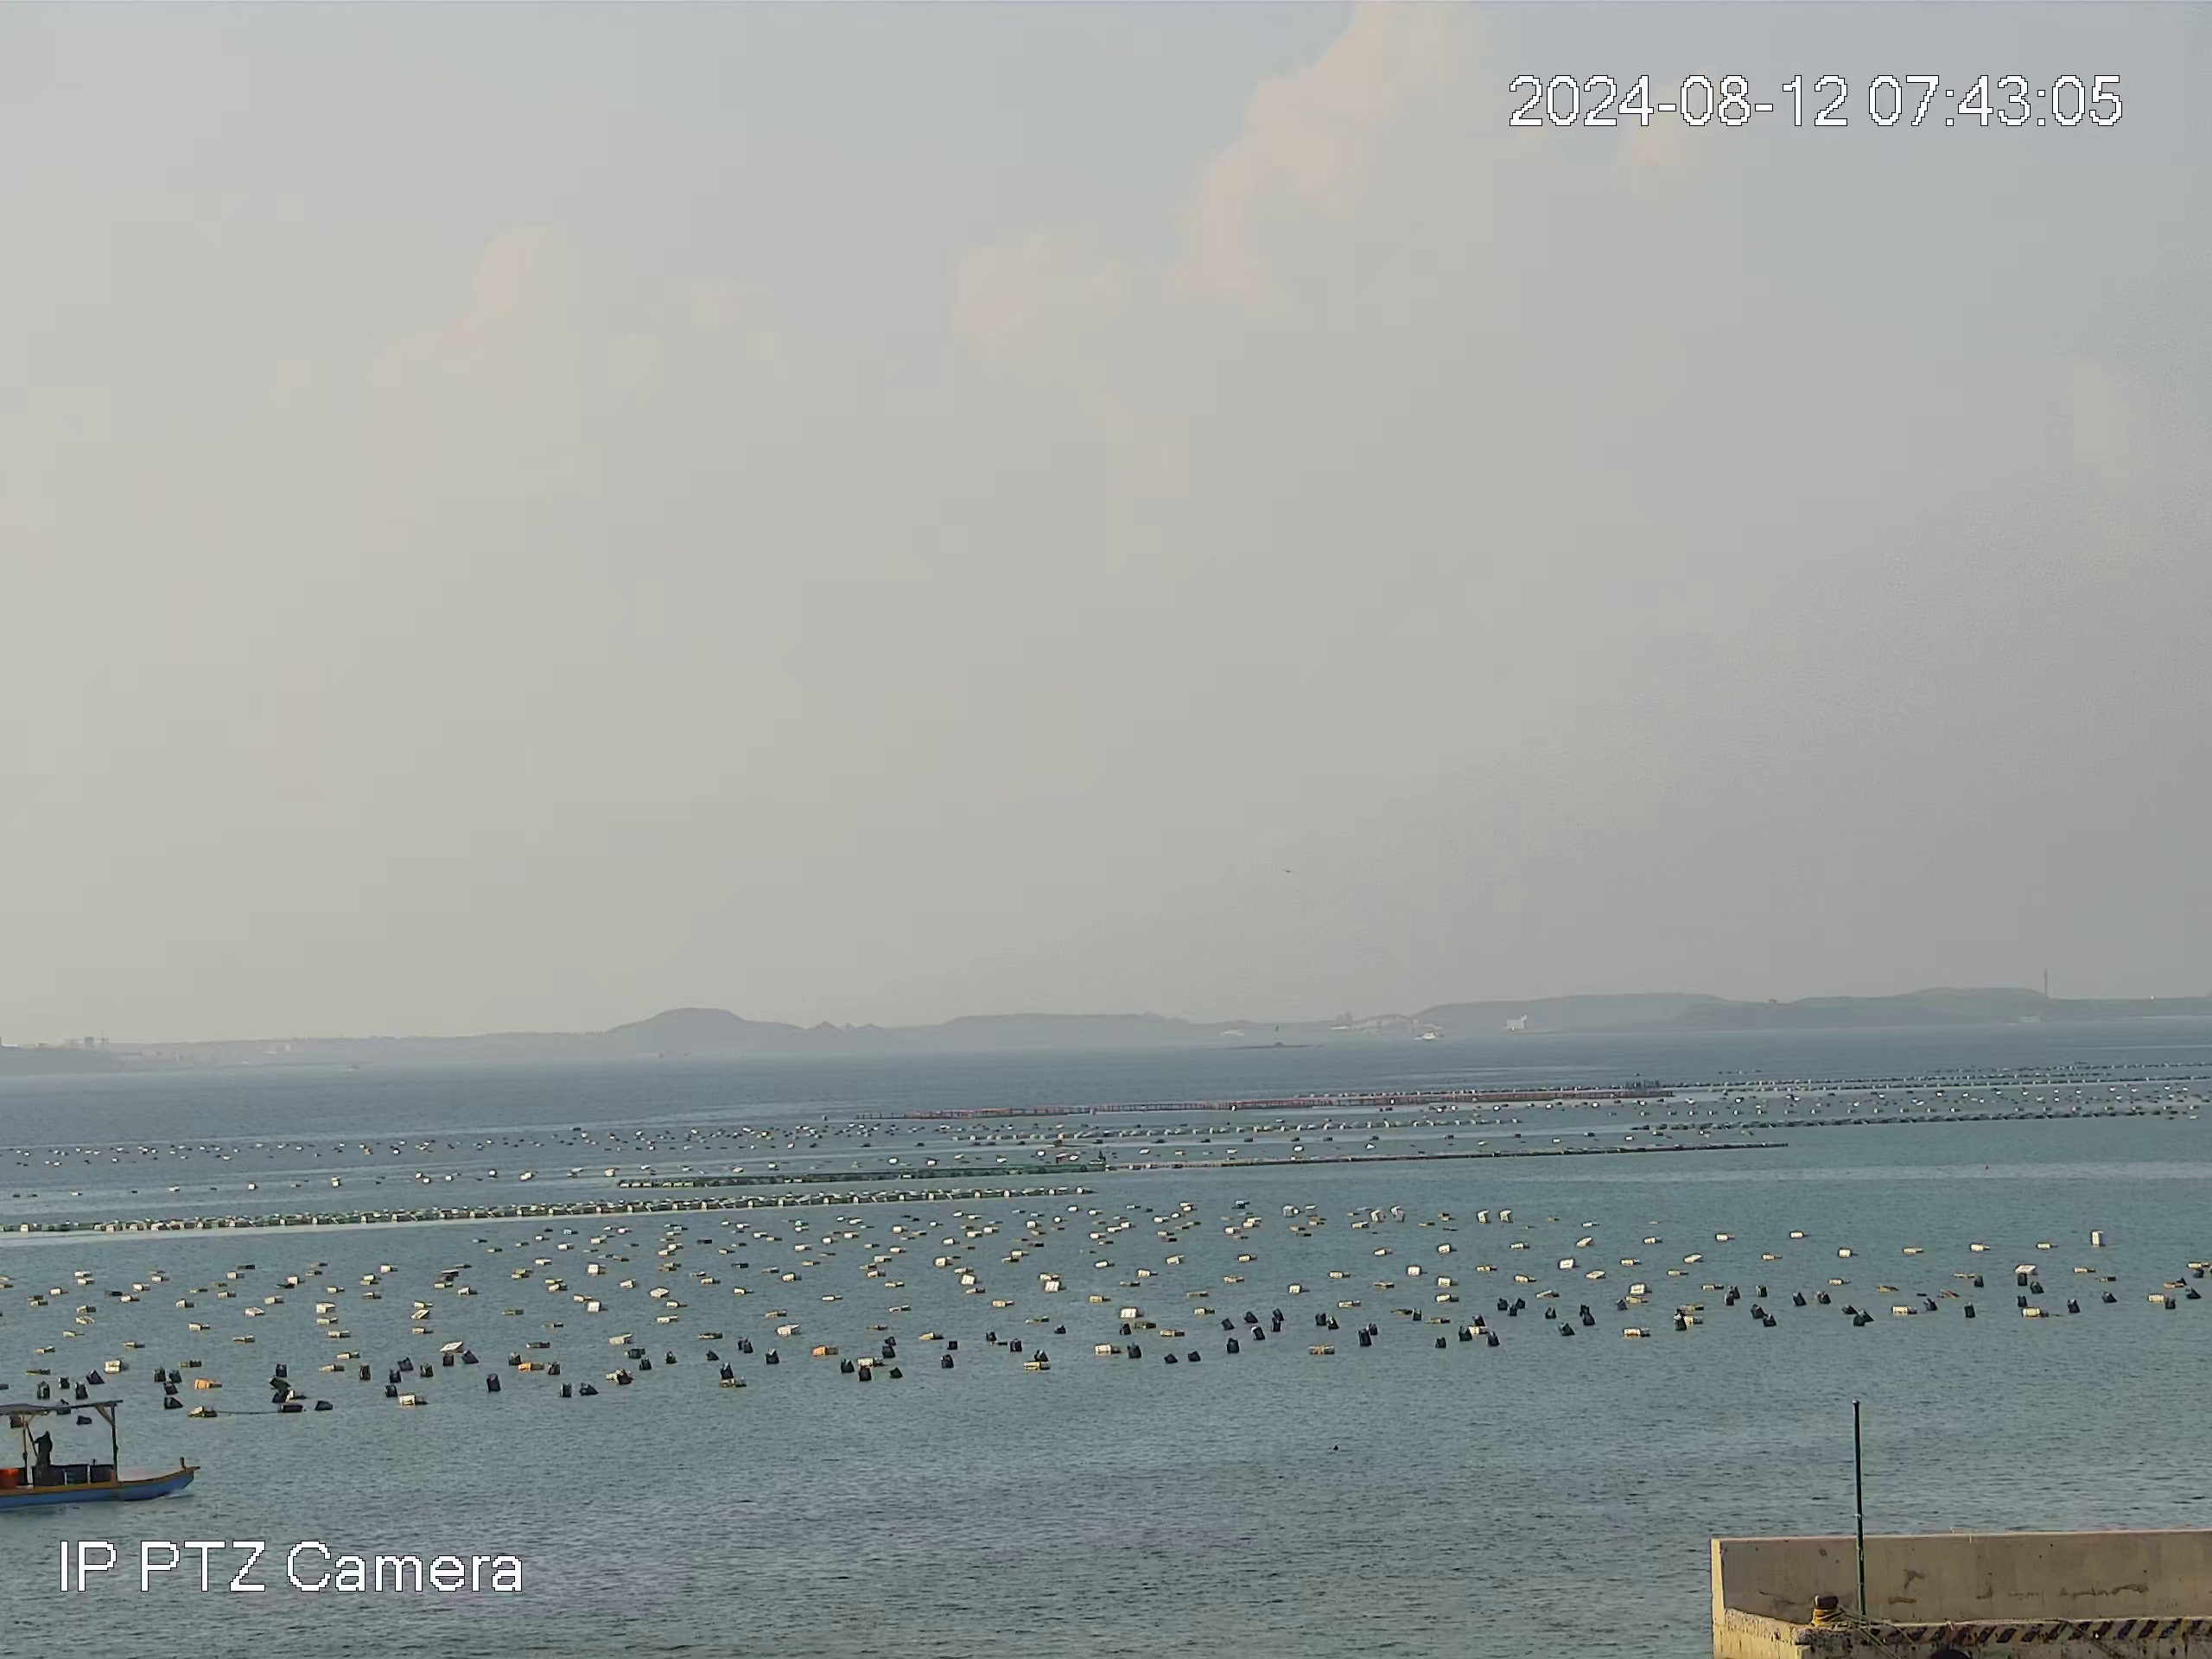boat: (0, 1389, 212, 1513)
